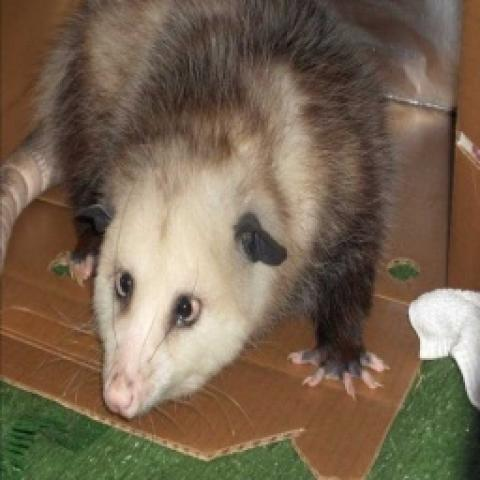small_animal: (0, 0, 386, 422)
